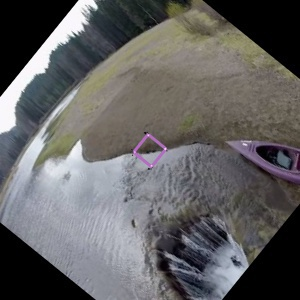square: (132, 132, 168, 168)
